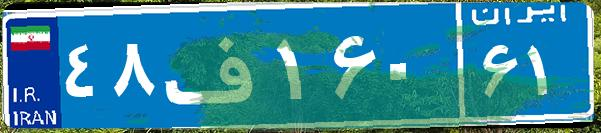0: (385, 28, 445, 110)
1: (273, 28, 330, 110), (525, 38, 570, 115)
4: (57, 26, 110, 107)
6: (330, 28, 385, 110), (475, 38, 525, 113)
8: (110, 28, 158, 105)
ف: (158, 15, 273, 115)
